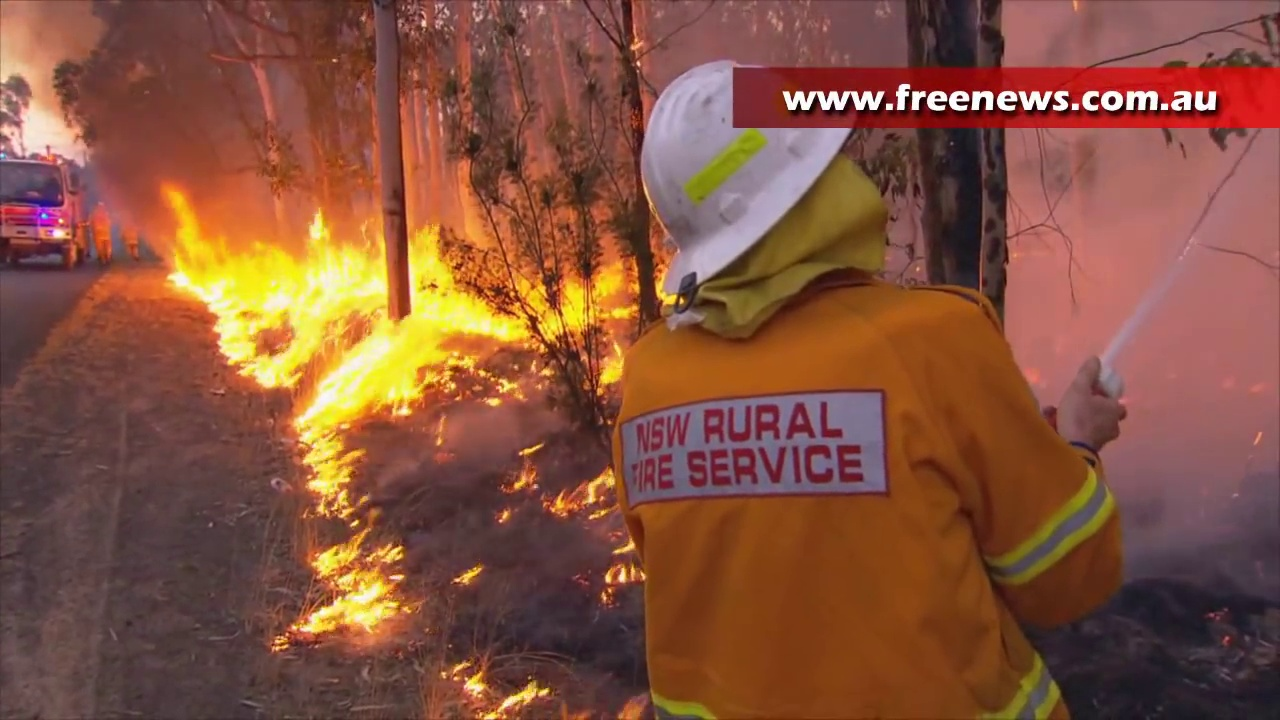fire: (167, 177, 640, 507), (296, 545, 406, 638), (609, 566, 640, 585), (464, 674, 482, 698), (514, 686, 540, 701)
